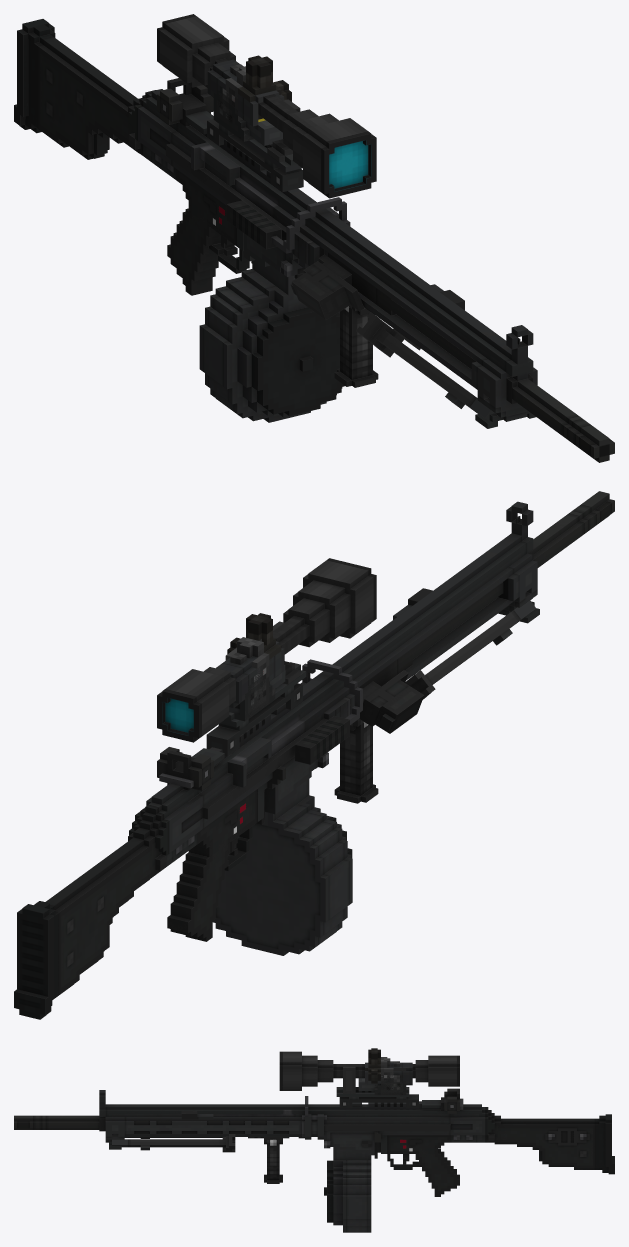
3 renders of one model, top to bottom at view 1: azimuth 30°, elevation 25°; view 2: azimuth 150°, elevation 25°; view 3: azimuth 270°, elevation 25°, orthographic. The views are drawn at different scales.
Visible parts, largest first — view 1: HK21, HK21_CLIP, SCOPE_SCHMIDT_BENDER, HK21_DIPOD_LEG1, PLANK4 (×2), GRIP1, SCOPE_TASCO, SCOPE_EOTECH, HK21_DIPOD; view 2: HK21, HK21_CLIP, SCOPE_SCHMIDT_BENDER, GRIP1, HK21_DIPOD_LEG1, PLANK4, SCOPE_TASCO, SCOPE_EOTECH, SCOPE_HOLOSUN; view 3: HK21, SCOPE_SCHMIDT_BENDER, HK21_CLIP, HK21_DIPOD_LEG2, PLANK4, SCOPE_TASCO, GRIP1, SCOPE_EOTECH, SCOPE_HOLOSUN.
Boxes of the visible parts, box(x1,y1,x2,y2) form: HK21: box(14, 19, 614, 462); HK21_CLIP: box(199, 260, 344, 422); SCOPE_SCHMIDT_BENDER: box(157, 14, 376, 198); HK21_DIPOD_LEG1: box(356, 312, 494, 420); PLANK4 (×2): box(207, 119, 303, 191); GRIP1: box(334, 305, 378, 387); SCOPE_TASCO: box(207, 59, 284, 141); SCOPE_EOTECH: box(213, 86, 282, 145); HK21_DIPOD: box(475, 395, 535, 428); HK21: box(14, 491, 614, 1019); HK21_CLIP: box(212, 779, 352, 955); SCOPE_SCHMIDT_BENDER: box(157, 558, 376, 742); GRIP1: box(334, 719, 378, 803); HK21_DIPOD_LEG1: box(405, 600, 536, 699); PLANK4: box(206, 663, 306, 756); SCOPE_TASCO: box(216, 637, 284, 714); SCOPE_EOTECH: box(229, 665, 285, 721); SCOPE_HOLOSUN: box(225, 647, 269, 718); HK21: box(14, 1088, 614, 1196); SCOPE_SCHMIDT_BENDER: box(279, 1048, 459, 1093); HK21_CLIP: box(324, 1147, 371, 1232); HK21_DIPOD_LEG2: box(112, 1134, 235, 1152); PLANK4: box(336, 1089, 418, 1108); SCOPE_TASCO: box(365, 1057, 412, 1095); GRIP1: box(264, 1137, 282, 1183); SCOPE_EOTECH: box(358, 1075, 406, 1095); SCOPE_HOLOSUN: box(381, 1061, 406, 1095).
Bounding box in the file's own units: 0.2362 × 0.6002 × 1.87.
Materials: 10 (10 with a texture image).
